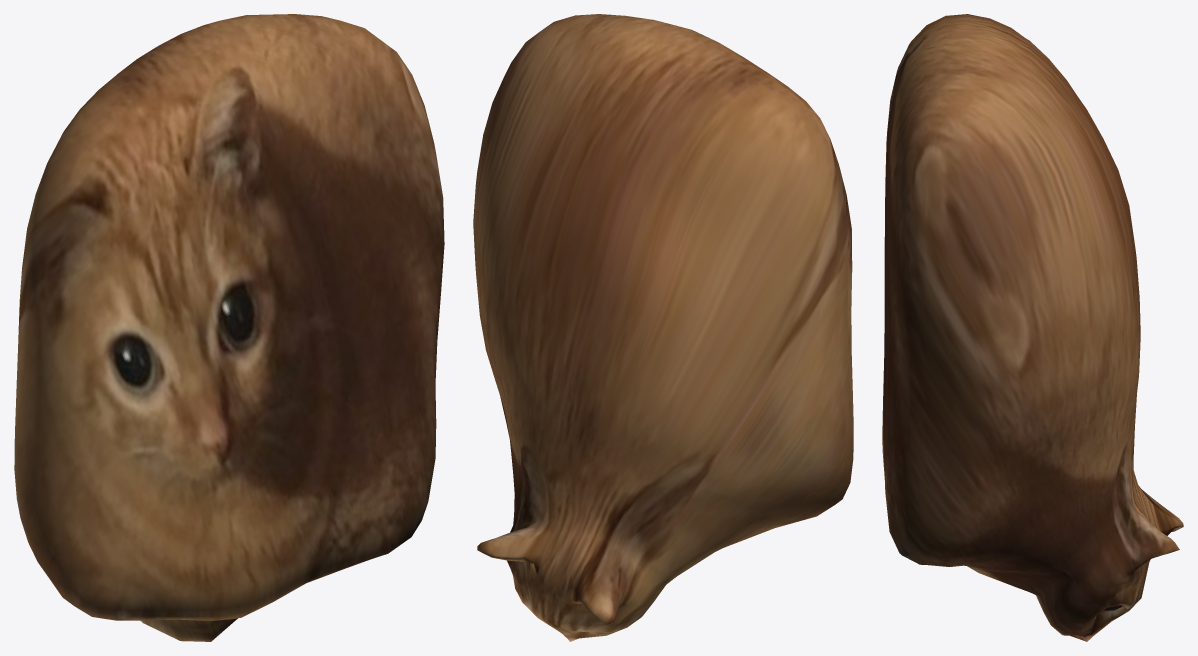
File: chonkyCat.fbx
3 views of the same model, side by side, from view 1: azimuth 30°, elevation 25°; view 2: azimuth 150°, elevation 25°; view 3: azimuth 270°, elevation 25° (orthographic). The views are drawn at different scales.
Parts seen in each view (by area): view 1: Cube; view 2: Cube; view 3: Cube.
Boxes of the visible parts, left/top/right/bottom form: Cube: left=14, top=14, right=444, bottom=641; Cube: left=473, top=14, right=853, bottom=641; Cube: left=882, top=14, right=1183, bottom=641.
Bounding box in the file's own units: 10008 × 15631 × 7198.
